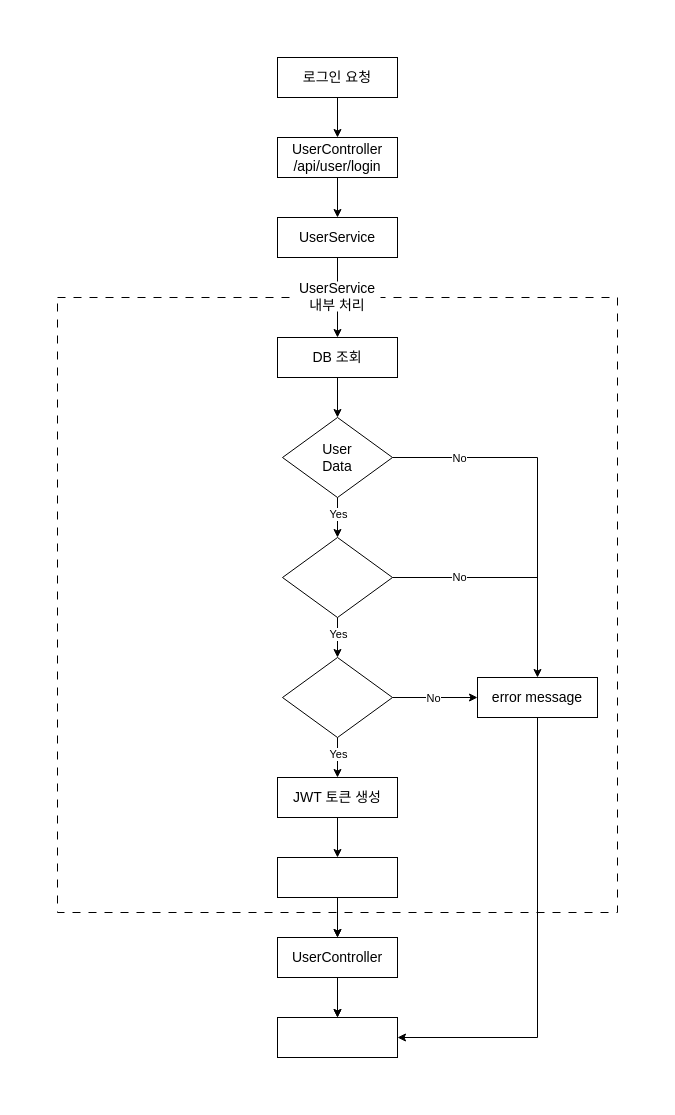
The diagram is 675 pixels wide and 1115 high, and some of its shapes have lost their labels. The centre of each missing label's shape, as x and y in pixels:
Redis 저장: (x=337, y=877)
user state = 1: (x=337, y=577)
브라우저: (x=337, y=1037)
비밀번호 확인: (x=337, y=697)
